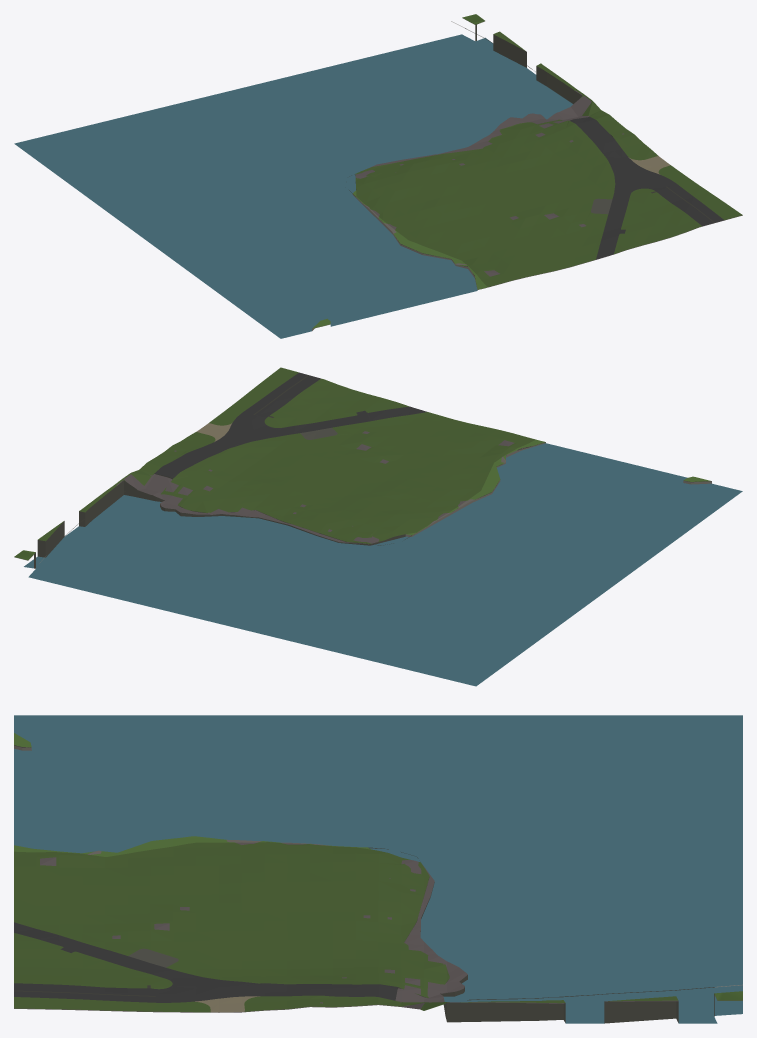
The picture shows the model from 3 angles, top to bottom: view 1: azimuth 30°, elevation 25°; view 2: azimuth 150°, elevation 25°; view 3: azimuth 270°, elevation 25°; orthographic projection. The views are drawn at different scales.
Visible parts, largest first — view 1: c_m07_m09, append:c_m07_m09; view 2: c_m07_m09, append:c_m07_m09; view 3: c_m07_m09, append:c_m07_m09.
Boxes of the visible parts, bbox=[...] form: c_m07_m09: bbox=[14, 14, 742, 338]; append:c_m07_m09: bbox=[312, 190, 487, 330]; c_m07_m09: bbox=[14, 367, 742, 686]; append:c_m07_m09: bbox=[405, 439, 711, 536]; c_m07_m09: bbox=[14, 715, 742, 1023]; append:c_m07_m09: bbox=[14, 733, 371, 856].
Bounding box in the file's own units: 128 × 4.46 × 128.
